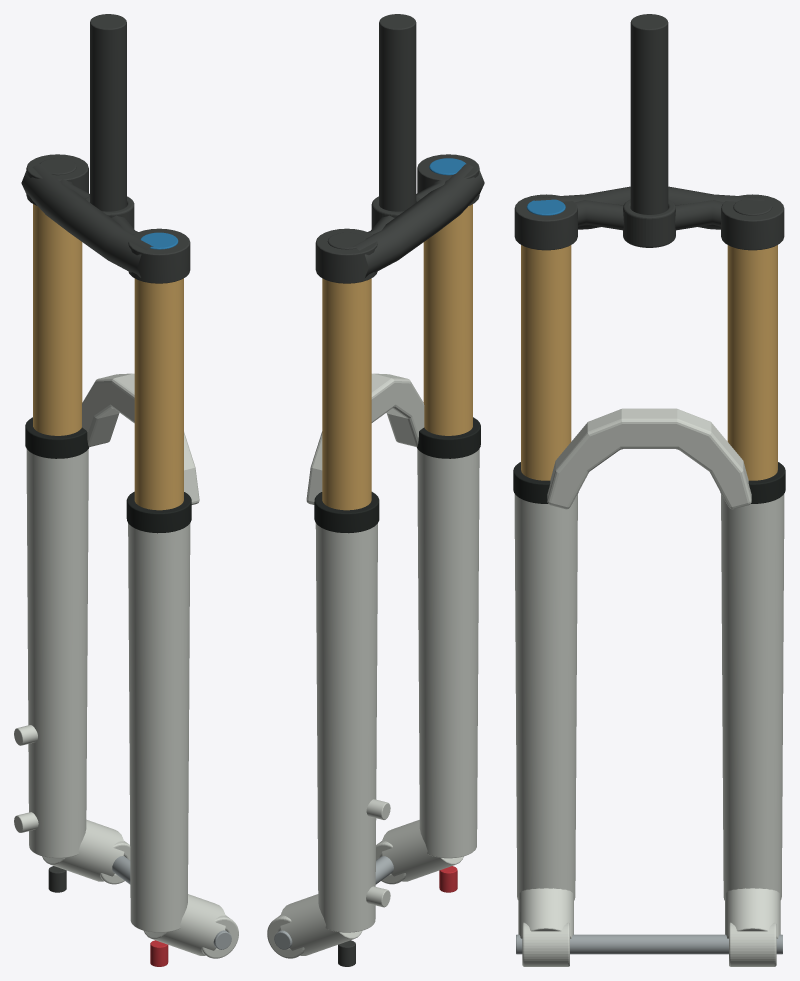
Rendered from fox-38-factory-my27--ef85ce10.glb.
3 views of the same model, side by side, from view 1: azimuth 30°, elevation 25°; view 2: azimuth 150°, elevation 25°; view 3: azimuth 270°, elevation 25° (orthographic).
Visible parts, largest first — view 1: fox-38-factory-my27--ef85ce10__frame, fox-38-factory-my27--ef85ce10__stanchions, fox-38-factory-my27--ef85ce10__link, fox-38-factory-my27--ef85ce10__protection, fox-38-factory-my27--ef85ce10__bolts, fox-38-factory-my27--ef85ce10__adjuster; view 2: fox-38-factory-my27--ef85ce10__frame, fox-38-factory-my27--ef85ce10__stanchions, fox-38-factory-my27--ef85ce10__link, fox-38-factory-my27--ef85ce10__protection, fox-38-factory-my27--ef85ce10__bolts, fox-38-factory-my27--ef85ce10__adjuster; view 3: fox-38-factory-my27--ef85ce10__frame, fox-38-factory-my27--ef85ce10__stanchions, fox-38-factory-my27--ef85ce10__link, fox-38-factory-my27--ef85ce10__bolts, fox-38-factory-my27--ef85ce10__protection.
Boxes of the visible parts, left/top/right/bottom form: fox-38-factory-my27--ef85ce10__frame: left=14, top=373, right=238, bottom=958; fox-38-factory-my27--ef85ce10__stanchions: left=33, top=204, right=183, bottom=510; fox-38-factory-my27--ef85ce10__link: left=21, top=14, right=190, bottom=892; fox-38-factory-my27--ef85ce10__protection: left=25, top=417, right=191, bottom=533; fox-38-factory-my27--ef85ce10__bolts: left=112, top=856, right=231, bottom=949; fox-38-factory-my27--ef85ce10__adjuster: left=140, top=232, right=178, bottom=249; fox-38-factory-my27--ef85ce10__frame: left=267, top=373, right=479, bottom=958; fox-38-factory-my27--ef85ce10__stanchions: left=322, top=204, right=472, bottom=510; fox-38-factory-my27--ef85ce10__link: left=315, top=14, right=484, bottom=966; fox-38-factory-my27--ef85ce10__protection: left=314, top=417, right=480, bottom=533; fox-38-factory-my27--ef85ce10__bolts: left=274, top=856, right=393, bottom=949; fox-38-factory-my27--ef85ce10__adjuster: left=429, top=158, right=465, bottom=175; fox-38-factory-my27--ef85ce10__frame: left=514, top=408, right=784, bottom=966; fox-38-factory-my27--ef85ce10__stanchions: left=521, top=245, right=777, bottom=480; fox-38-factory-my27--ef85ce10__link: left=514, top=14, right=784, bottom=250; fox-38-factory-my27--ef85ce10__bolts: left=516, top=934, right=782, bottom=954; fox-38-factory-my27--ef85ce10__protection: left=513, top=462, right=785, bottom=503.
Size of the model in its own units: 0.1 by 0.767 by 0.206.
